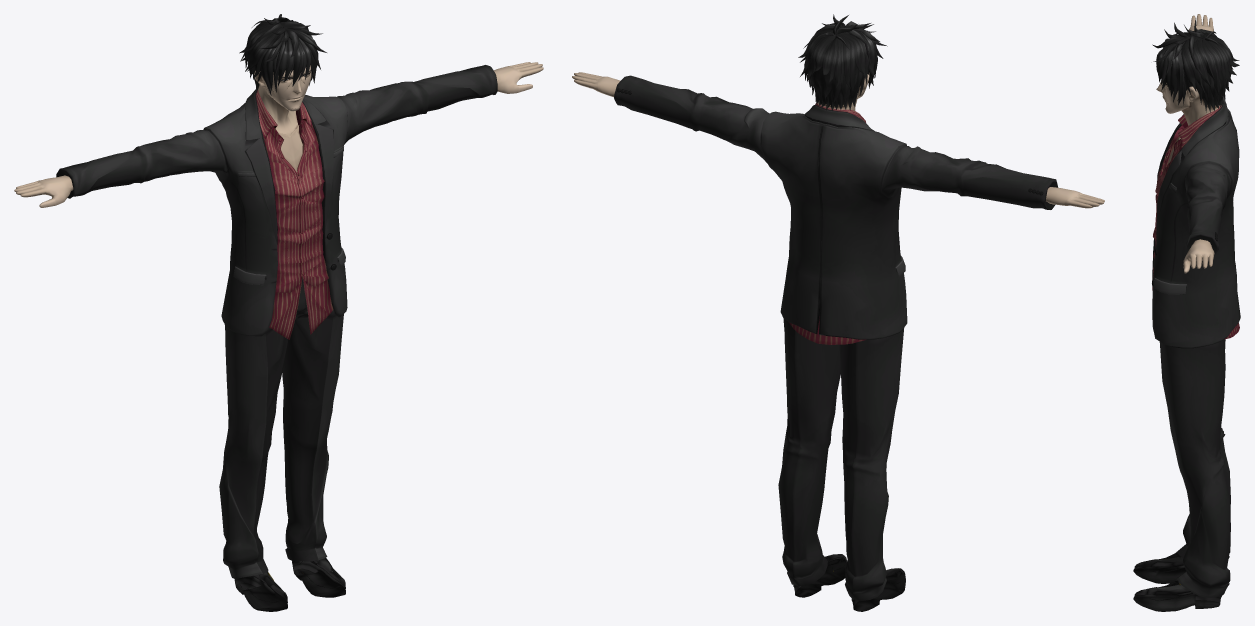
The model's file is yaga.glb.
3 views of the same model, side by side, from view 1: azimuth 30°, elevation 25°; view 2: azimuth 150°, elevation 25°; view 3: azimuth 270°, elevation 25° (orthographic).
Visible parts, largest first — view 1: Body; view 2: Body; view 3: Body.
Part boxes in pixels (bbox=[...]): Body: bbox=[14, 14, 543, 611]; Body: bbox=[572, 14, 1104, 611]; Body: bbox=[1133, 14, 1240, 611].
Bounding box in the file's own units: 1.78 × 1.86 × 0.3187.
13 materials, 13 textured.
